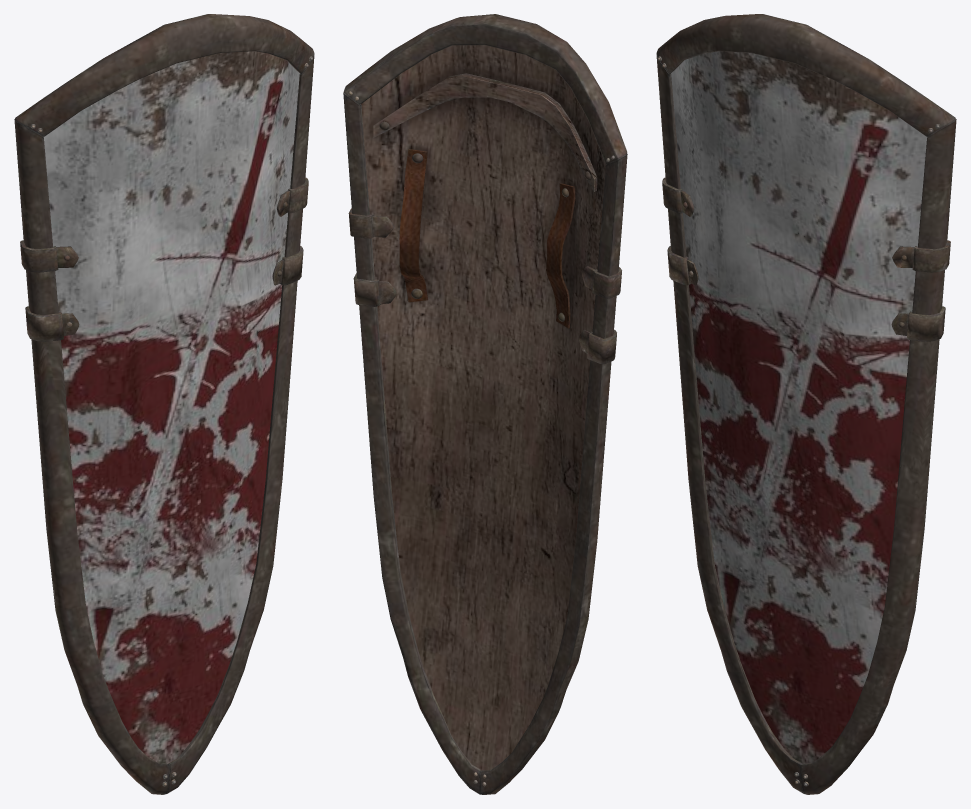
The model's file is shield-kite.f08f149f.glb.
3 renders of one model, left to right at view 1: azimuth 30°, elevation 25°; view 2: azimuth 150°, elevation 25°; view 3: azimuth 330°, elevation 25°, orthographic. The views are drawn at different scales.
Parts seen in each view (by area): view 1: model; view 2: model; view 3: model.
Boxes of the visible parts, x1,y1,x2,y2 form: model: (14,14,314,794); model: (343,14,627,794); model: (656,14,956,794).
Size of the model in its own units: 0.5432 by 1.39 by 0.1347.
2 materials, 2 textured.
